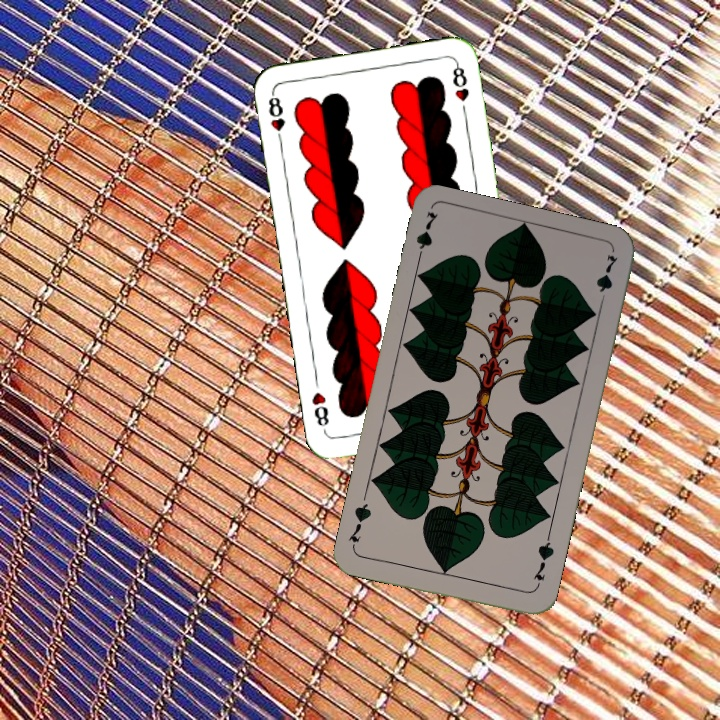G7: (412, 208, 441, 267), (529, 533, 557, 591)
H8: (264, 88, 288, 147)
